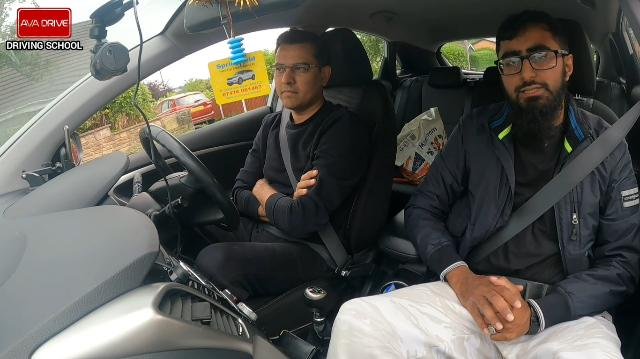seatbelt: (464, 98, 638, 266), (233, 107, 364, 255)
